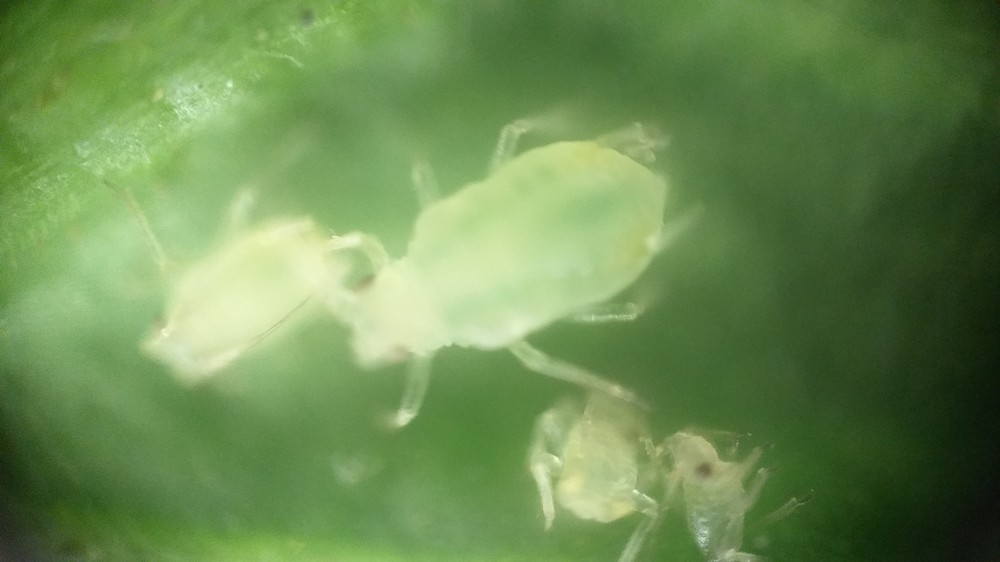Pulgon: (312, 95, 751, 414), (87, 178, 372, 380), (513, 359, 684, 557), (650, 410, 818, 562)
